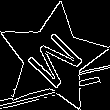M_SE: (19, 24, 86, 92)
